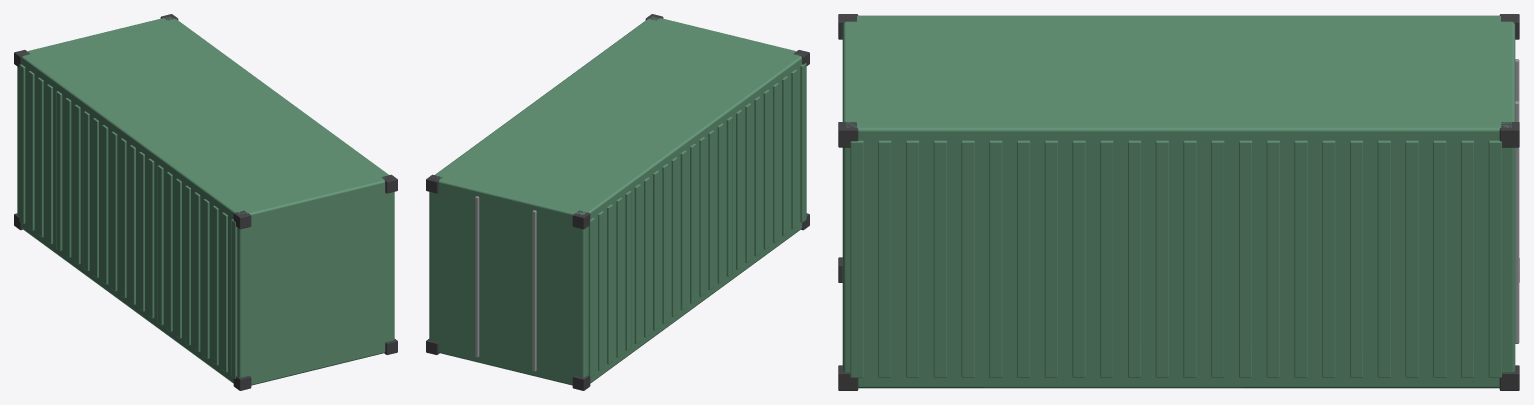
The model's file is container_3.glb.
3 views of the same model, side by side, from view 1: azimuth 30°, elevation 25°; view 2: azimuth 150°, elevation 25°; view 3: azimuth 270°, elevation 25° (orthographic). The views are drawn at different scales.
Parts seen in each view (by area): view 1: Box, Rib.034, Rib.004, Rib.026, Rib.042, Rib.046, Rib.006, Rib.008, Rib.016, Rib.018, Rib.024, Rib.028 (+13 smaller); view 2: Box, Rib.010, Rib.018, Rib.040, Rib.002, Rib.012, Rib.036, Rib.022, Rib.026, Rib.030, Rib.038, Rib.008 (+15 smaller); view 3: Box, Rib.035, Rib.043, Rib.003, Rib.005, Rib.007, Rib.009, Rib.011, Rib.013, Rib.015, Rib.017, Rib.019 (+14 smaller).
Boxes of the visible parts, x1,y1,x2,y2 form: Box: [17, 16, 394, 385]; Rib.034: [74, 104, 80, 264]; Rib.004: [212, 205, 218, 365]; Rib.026: [111, 131, 117, 291]; Rib.042: [37, 77, 43, 237]; Rib.046: [19, 64, 25, 223]; Rib.006: [203, 199, 209, 358]; Rib.008: [194, 192, 200, 351]; Rib.016: [157, 165, 163, 324]; Rib.018: [148, 158, 154, 318]; Rib.024: [120, 138, 126, 298]; Rib.028: [102, 125, 108, 284]; Box: [429, 16, 802, 385]; Rib.010: [754, 96, 760, 256]; Rib.018: [717, 123, 723, 283]; Rib.040: [616, 197, 622, 357]; Rib.002: [791, 69, 797, 229]; Rib.012: [745, 103, 751, 263]; Rib.036: [634, 184, 640, 343]; Rib.022: [699, 137, 705, 296]; Rib.026: [680, 150, 686, 310]; Rib.030: [662, 164, 668, 323]; Rib.038: [625, 191, 631, 350]; Rib.008: [763, 90, 769, 249]; Box: [842, 15, 1515, 388]; Rib.035: [1322, 140, 1335, 377]; Rib.043: [1433, 140, 1446, 377]; Rib.003: [878, 140, 891, 377]; Rib.005: [906, 140, 919, 377]; Rib.007: [933, 140, 946, 377]; Rib.009: [961, 140, 974, 377]; Rib.011: [989, 140, 1002, 377]; Rib.013: [1017, 140, 1030, 377]; Rib.015: [1044, 140, 1057, 377]; Rib.017: [1072, 140, 1085, 377]; Rib.019: [1100, 140, 1113, 377].
Size of the model in its own units: 2.5 by 2.6 by 6.14.
